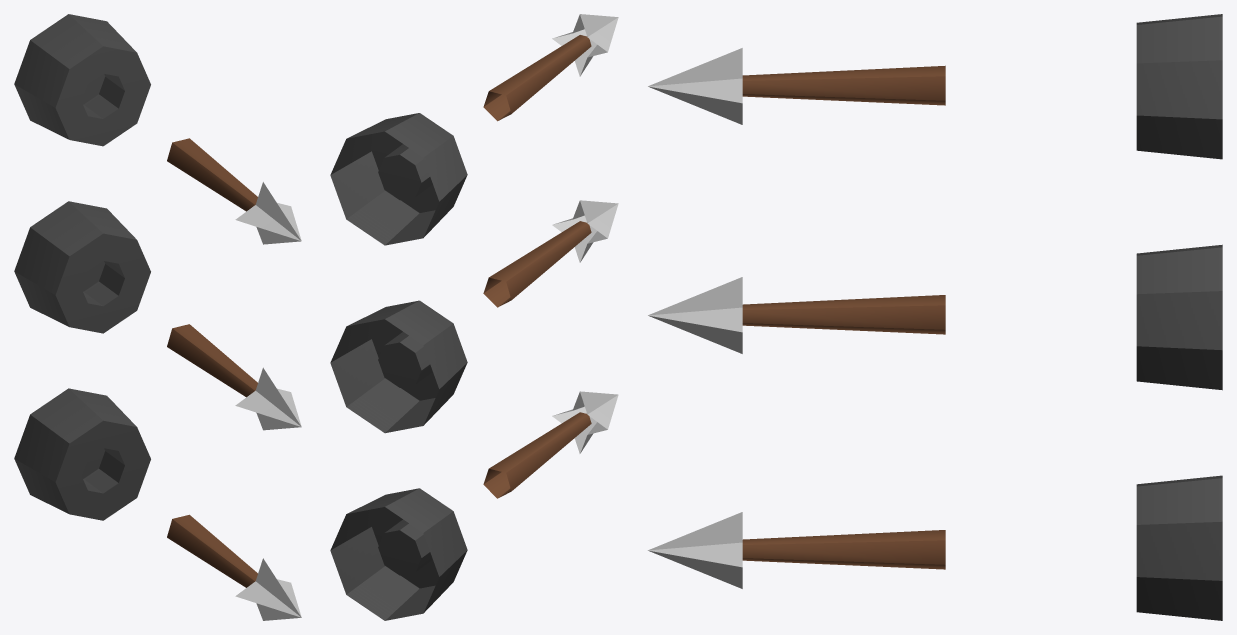
Rendered from Arrows_1_Trap.fbx.
The picture shows the model from 3 angles, left to right: view 1: azimuth 30°, elevation 25°; view 2: azimuth 150°, elevation 25°; view 3: azimuth 270°, elevation 25°; orthographic projection. The views are drawn at different scales.
Visible parts, largest first — view 1: Arrows_1_Trap, Arrows_1; view 2: Arrows_1_Trap, Arrows_1; view 3: Arrows_1_Trap, Arrows_1.
Boxes of the visible parts, left/top/right/bottom form: Arrows_1_Trap: left=14, top=14, right=150, bottom=520; Arrows_1: left=167, top=138, right=301, bottom=620; Arrows_1_Trap: left=330, top=113, right=467, bottom=620; Arrows_1: left=483, top=14, right=618, bottom=498; Arrows_1_Trap: left=1136, top=14, right=1222, bottom=620; Arrows_1: left=647, top=48, right=945, bottom=588.
Size of the model in its own units: 19.37 by 83.07 by 71.94.
1 material, 1 textured.
